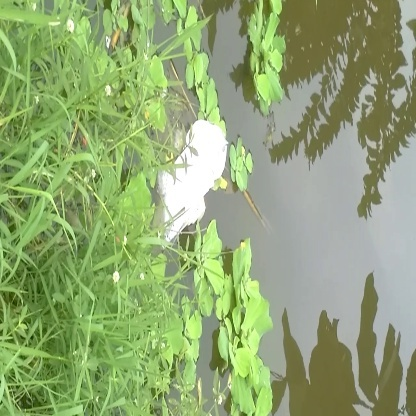plastic-bag: (155, 122, 228, 243)
